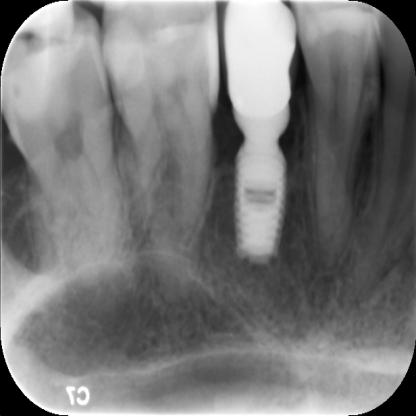Bicon: (235, 138, 288, 260)
